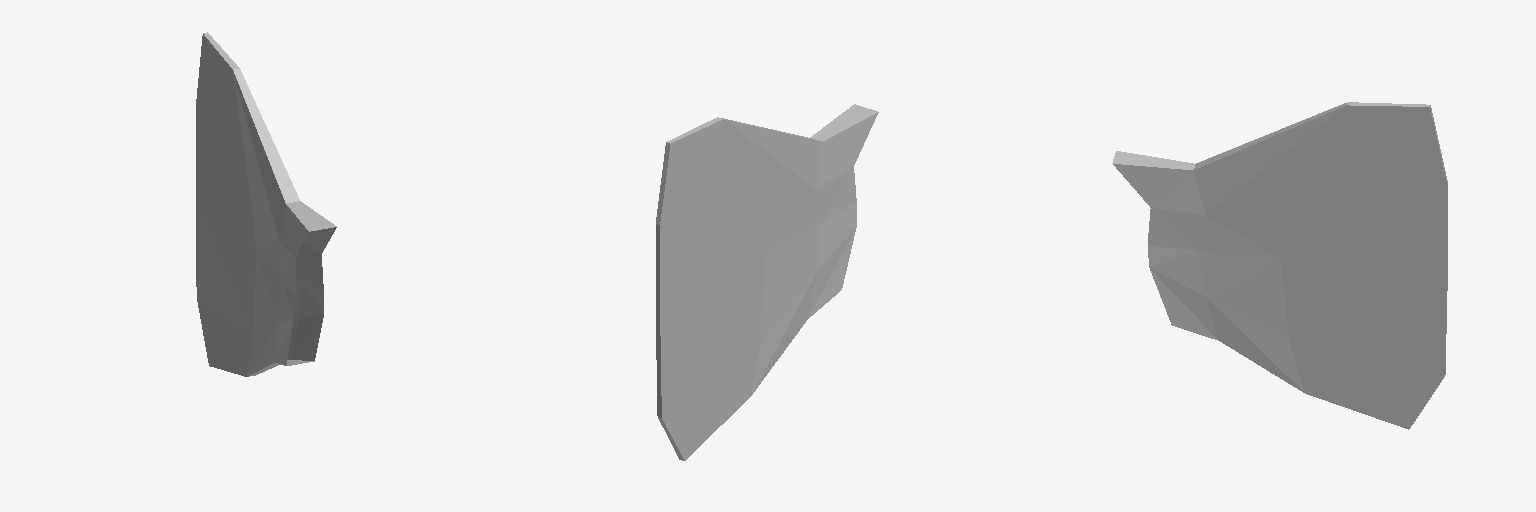
File: cola.obj
3 views of the same model, side by side, from view 1: azimuth 30°, elevation 25°; view 2: azimuth 150°, elevation 25°; view 3: azimuth 270°, elevation 25° (orthographic).
Parts seen in each view (by area): view 1: polySurface2 TropicalFish14; view 2: polySurface2 TropicalFish14; view 3: polySurface2 TropicalFish14.
Boxes of the visible parts, box(x1,y1,x2,y2) form: polySurface2 TropicalFish14: box(196, 32, 336, 376); polySurface2 TropicalFish14: box(656, 104, 878, 460); polySurface2 TropicalFish14: box(1112, 102, 1447, 429).
Bounding box in the file's own units: 0.2059 × 1.1 × 1.03.